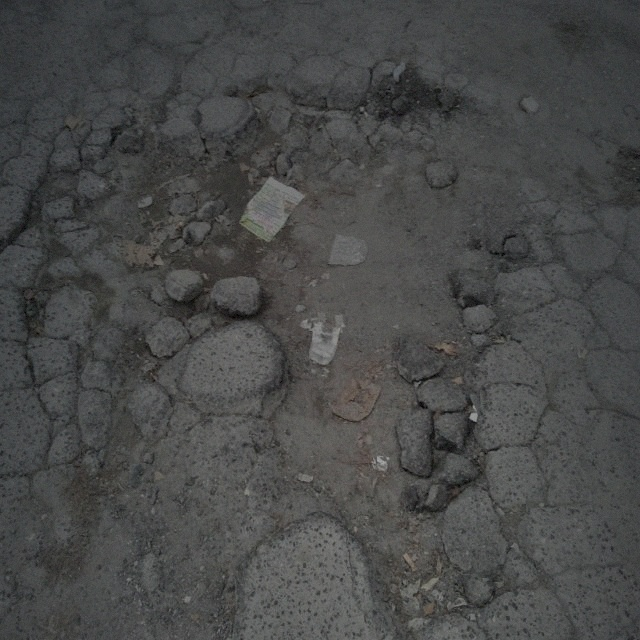pothole: (146, 70, 513, 617)
